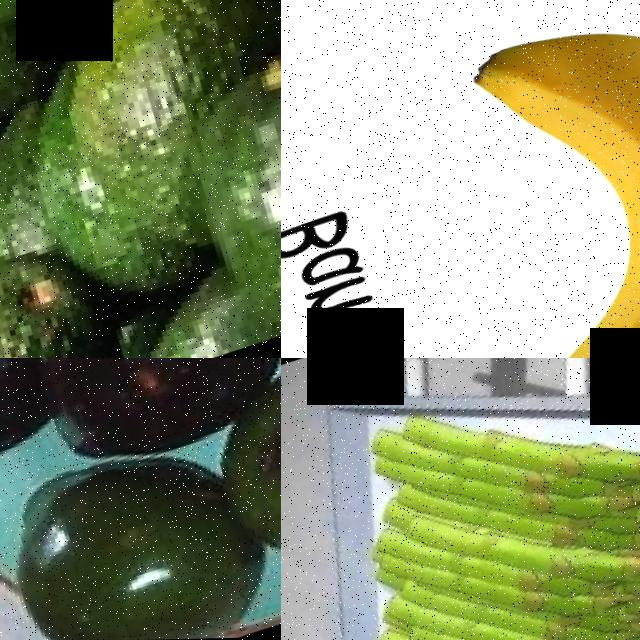avocado: (20, 0, 281, 282), (0, 413, 275, 640), (160, 0, 281, 352), (9, 358, 281, 447), (202, 358, 281, 597), (0, 231, 128, 358)
banana: (291, 0, 640, 358)
